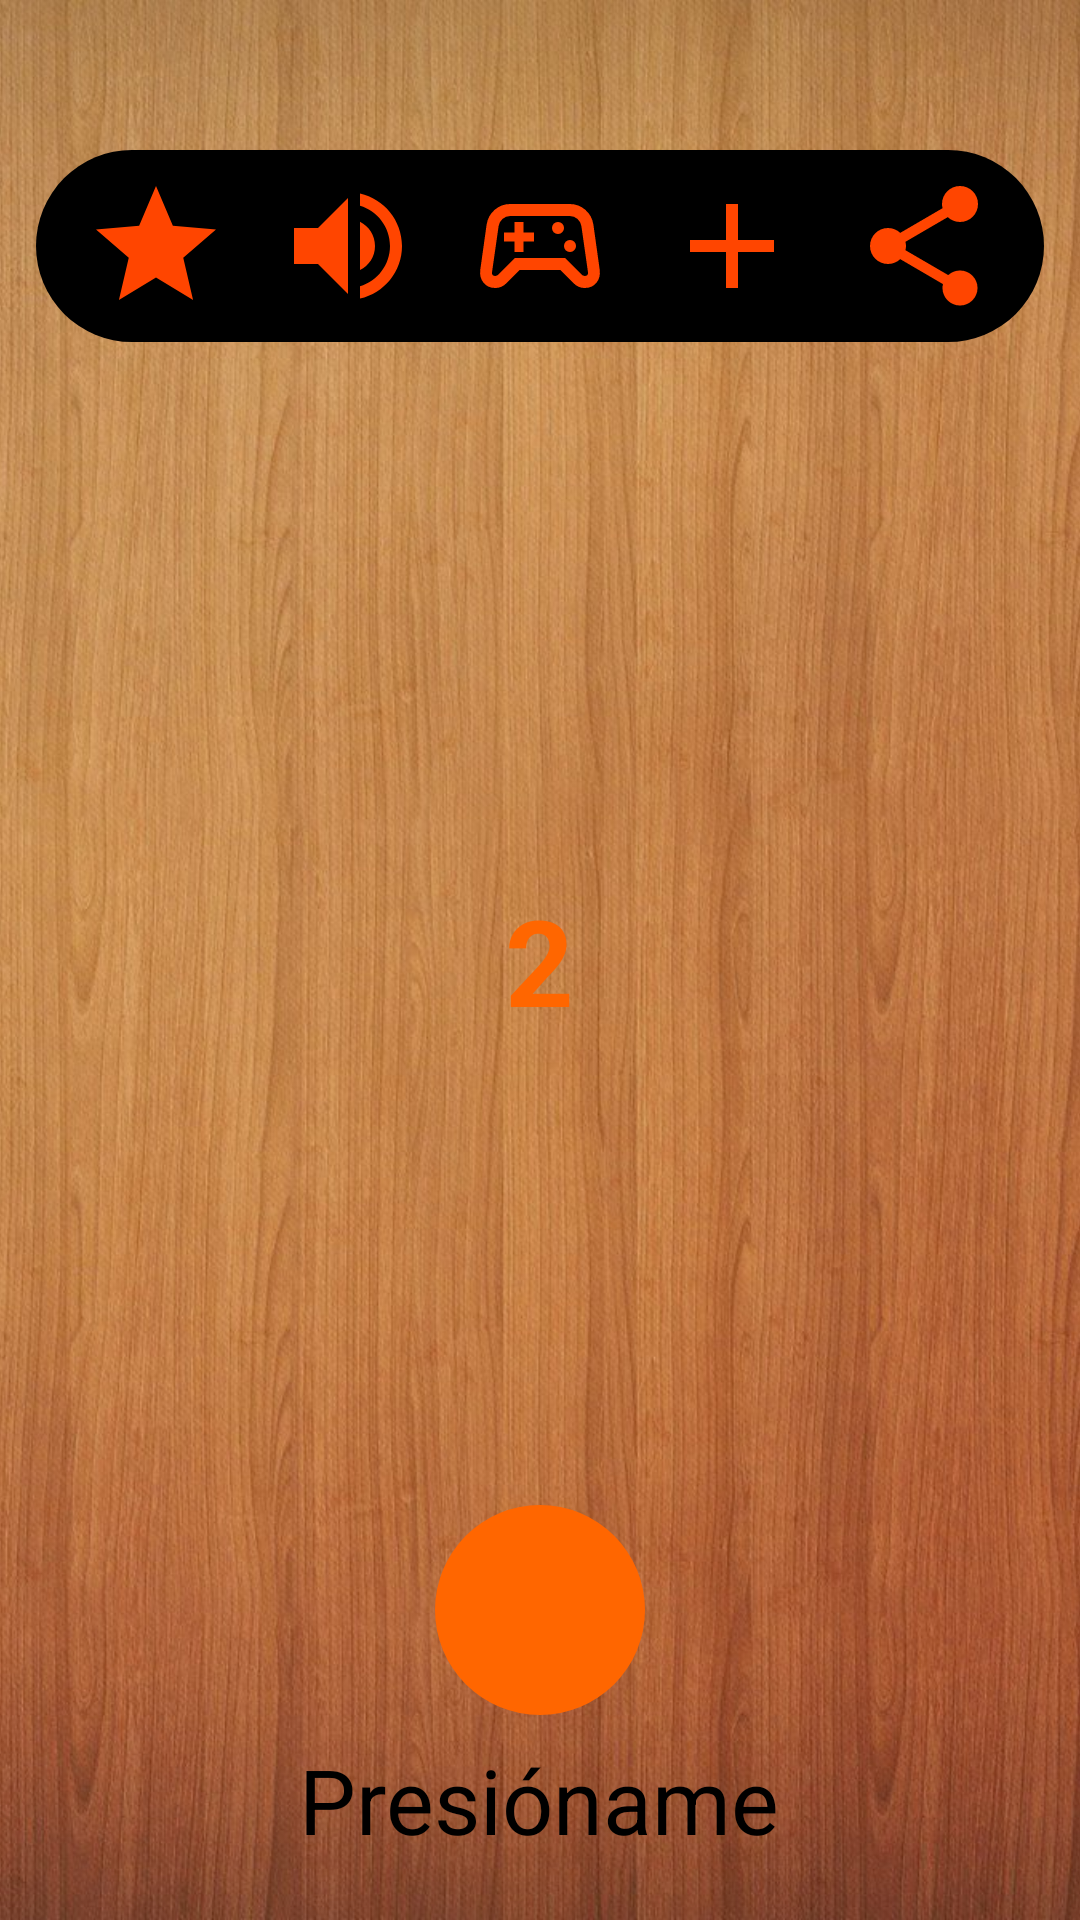

Named icons in this screenshot (1080 x 1920) and their bounding boxes, (x1, y1, x2, y2):
Agregar: (690, 204, 774, 288)
Compartir: (870, 186, 978, 306)
Favoritos: (96, 186, 216, 300)
Juego: (480, 204, 600, 288)
Sonido: (294, 193, 402, 299)
